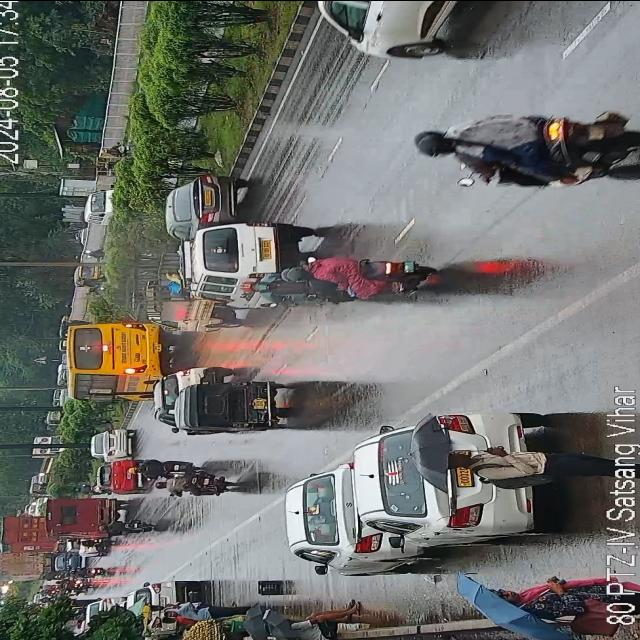2-wheelers: (400, 109, 640, 190), (280, 256, 430, 294), (128, 458, 242, 499), (98, 520, 158, 534), (66, 565, 106, 575), (97, 144, 130, 156), (78, 538, 112, 546)
auto: (178, 378, 292, 438)
bus: (61, 314, 178, 400), (49, 490, 125, 539)
car: (357, 415, 540, 557), (283, 470, 401, 572), (300, 1, 482, 58), (185, 218, 296, 300), (167, 168, 240, 236), (126, 578, 190, 632), (152, 366, 198, 434), (91, 424, 133, 459), (84, 594, 120, 618), (62, 546, 102, 558), (50, 552, 76, 570)
pedestrian: (444, 448, 608, 478), (486, 578, 600, 616), (282, 599, 356, 640), (160, 602, 248, 618), (158, 616, 190, 624)
truck: (135, 250, 238, 332), (0, 514, 52, 553), (0, 550, 45, 580)
